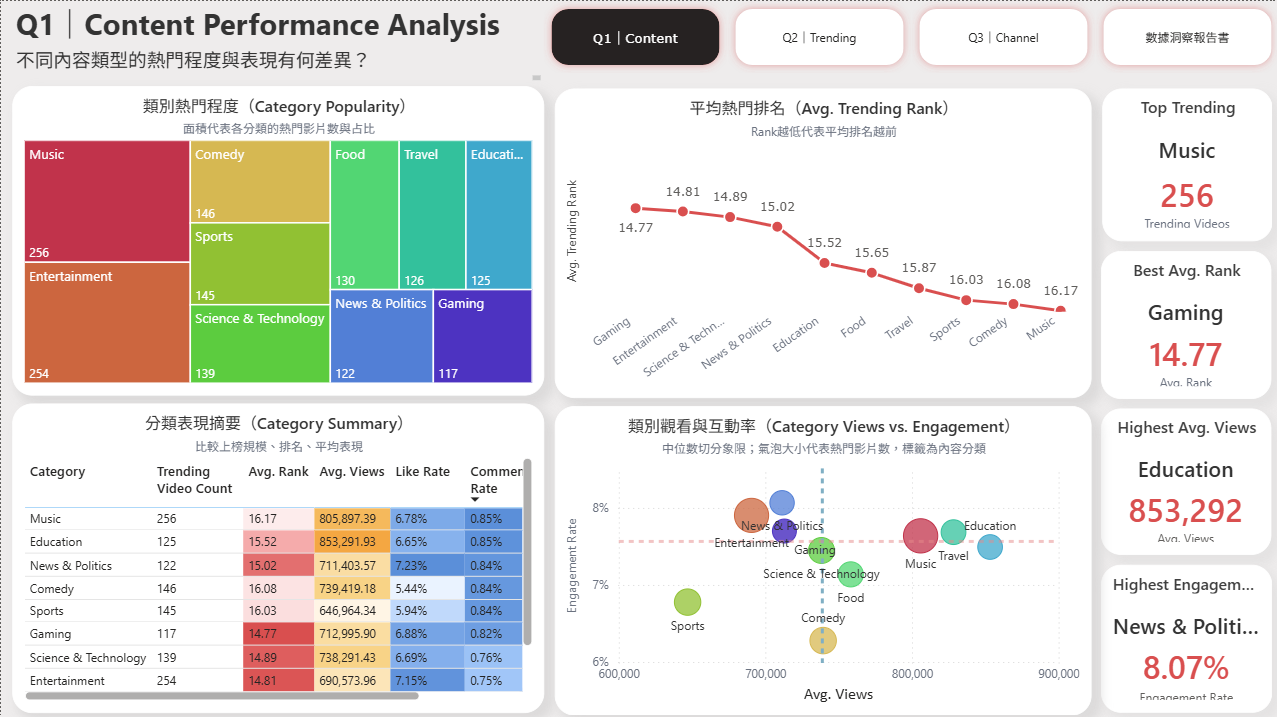

The dashboard page shown, as its layout file describes it:
{"tool":"powerbi","page":{"name":"Q1｜Content ","canvas":[1280,720],"ordinal":0},"visuals":[{"type":"textbox","title":"Q1｜Content Performance Analysis","box":[10.3,0,534.4,84.4],"z":0},{"type":"treemap","title":"類別熱門程度（Category Popularity）","fields":{"Group":["youtube_categories.Category_Name"],"Values":["量值表.Trending Video Count"]},"box":[10.8,84.4,531.9,309.4],"z":1000},{"type":"lineChart","title":"平均熱門排名（Avg. Trending Rank）","fields":{"Category":["youtube_categories.Category_Name"],"Y":["Avg(youtube_trending_videos.Trending_Rank)"]},"box":[553.5,87.3,536.8,309.4],"z":2000},{"type":"tableEx","title":"分類表現摘要（Category Summary）","fields":{"Values":["youtube_categories.Category_Name","量值表.Trending Video Count","Avg(youtube_trending_videos.Trending_Rank)","量值表.Avg. Views","量值表.Like Rate","量值表.Comment Rate","量值表.Engagement Rate"]},"box":[10.8,402.3,531.9,309.4],"z":3000},{"type":"cardVisual","title":"Top Trending","fields":{"Data":["量值表.Trending Leader Category","量值表.Trending Leader Count"]},"box":[1101.3,86.9,170.2,152.5],"z":4000},{"type":"cardVisual","title":"Best Avg. Rank","fields":{"Data":["量值表.Best Rank Category","量值表.Best Avg. Rank"]},"box":[1100.4,249.5,170.2,148.1],"z":5000},{"type":"cardVisual","title":"Highest Avg. Views","fields":{"Data":["量值表.Highest Views Category","量值表.Highest Avg. Views"]},"box":[1100.4,407.6,170.2,146.3],"z":6000},{"type":"cardVisual","title":"Highest Engagement","fields":{"Data":["量值表.Highest Engagement Category","量值表.Highest Engagement"]},"box":[1099.5,563.9,171.1,148.1],"z":7000},{"type":"pageNavigator","box":[542.8,0,737.5,72.2],"z":9000},{"type":"scatterChart","title":"類別觀看與互動率（Category Views vs. Engagement）","fields":{"X":["Avg(youtube_trending_videos.Views)"],"Series":["youtube_categories.Category_Name"],"Y":["量值表.Engagement Rate"],"Size":["量值表.Trending Video Count"]},"box":[553.5,405.2,536.8,309.4],"z":9500}]}

Visuals, with their boxes in screenshot pixels (x1, y1, x2, y2), scaled from the page's 1280x720 canvas onto the 1277x717 screenshot:
"Q1｜Content Performance Analysis" textbox: [x1=10, y1=0, x2=543, y2=84]
"類別熱門程度（Category Popularity）" treemap: [x1=11, y1=84, x2=541, y2=392]
"平均熱門排名（Avg. Trending Rank）" lineChart: [x1=552, y1=87, x2=1088, y2=395]
"分類表現摘要（Category Summary）" tableEx: [x1=11, y1=401, x2=541, y2=709]
"Top Trending" cardVisual: [x1=1099, y1=87, x2=1269, y2=238]
"Best Avg. Rank" cardVisual: [x1=1098, y1=248, x2=1268, y2=396]
"Highest Avg. Views" cardVisual: [x1=1098, y1=406, x2=1268, y2=552]
"Highest Engagement" cardVisual: [x1=1097, y1=562, x2=1268, y2=709]
pageNavigator: [x1=542, y1=0, x2=1276, y2=72]
"類別觀看與互動率（Category Views vs. Engagement）" scatterChart: [x1=552, y1=404, x2=1088, y2=712]
